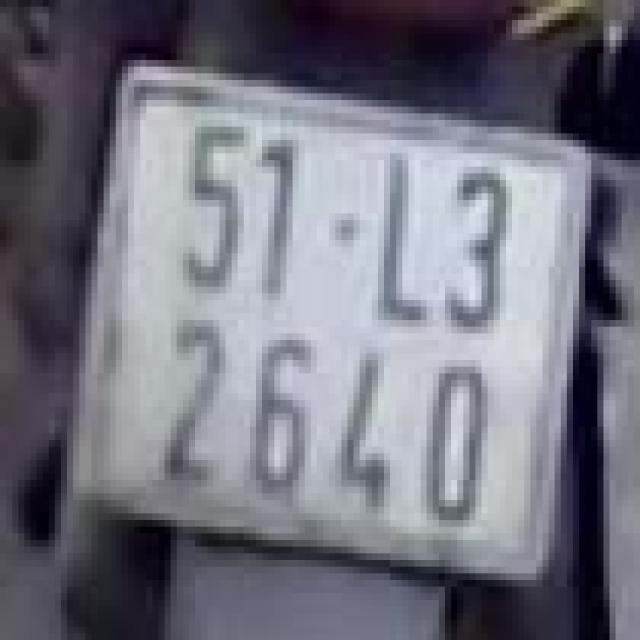0: (407, 340, 519, 542)
1: (244, 120, 311, 324)
2: (145, 297, 246, 498)
3: (436, 152, 525, 351)
4: (318, 331, 413, 538)
5: (171, 113, 258, 315)
6: (239, 324, 329, 511)
L: (364, 129, 443, 337)
